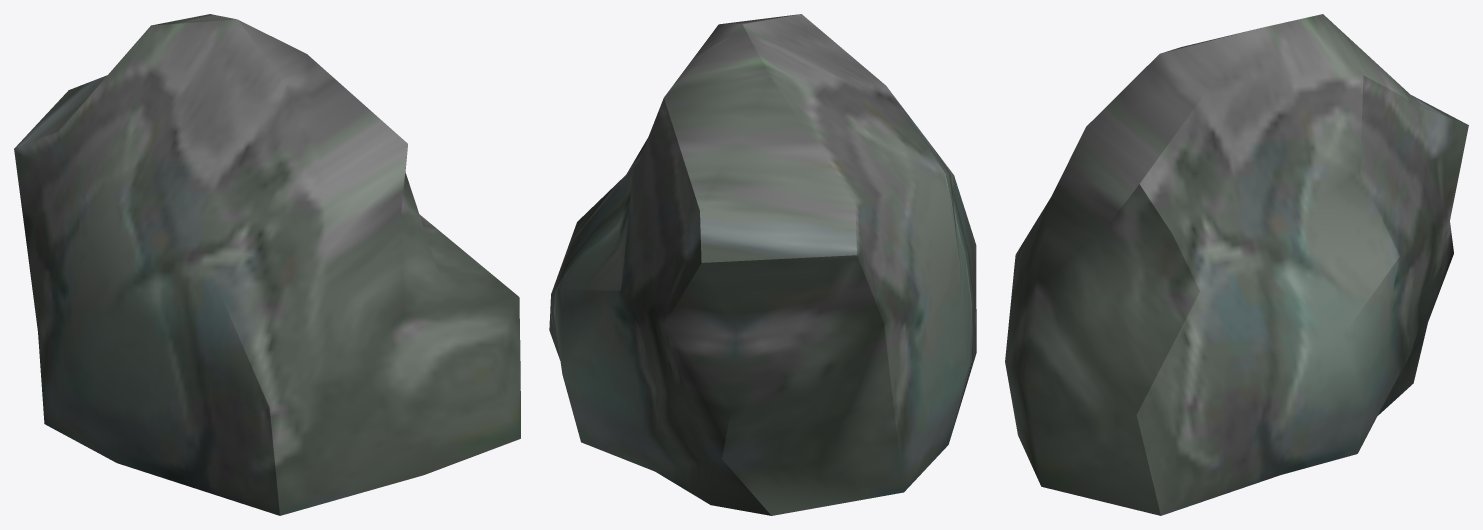
The model's file is map_112_shitou_2.fbx.
3 views of the same model, side by side, from view 1: azimuth 30°, elevation 25°; view 2: azimuth 150°, elevation 25°; view 3: azimuth 270°, elevation 25° (orthographic). The views are drawn at different scales.
Parts seen in each view (by area): view 1: map_112_shitou_2; view 2: map_112_shitou_2; view 3: map_112_shitou_2.
Part boxes in pixels (x1,y1,x2,y2): map_112_shitou_2: (14, 14, 520, 515); map_112_shitou_2: (549, 14, 976, 515); map_112_shitou_2: (1005, 14, 1468, 515).
Bounding box in the file's own units: 0.2322 × 0.2078 × 0.2309.
